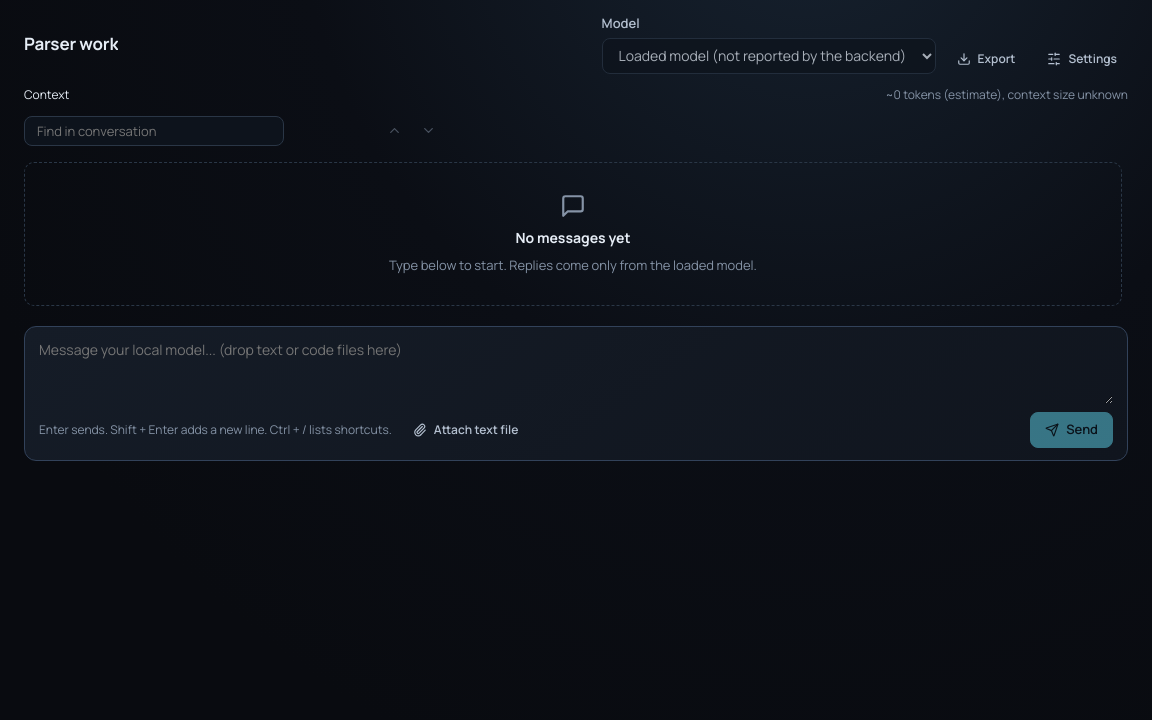
Test case: ChatPanel export › writes the conversation to the chosen path and reports the size
Click the button "Export" at (986, 58), box [946,44,1026,74]
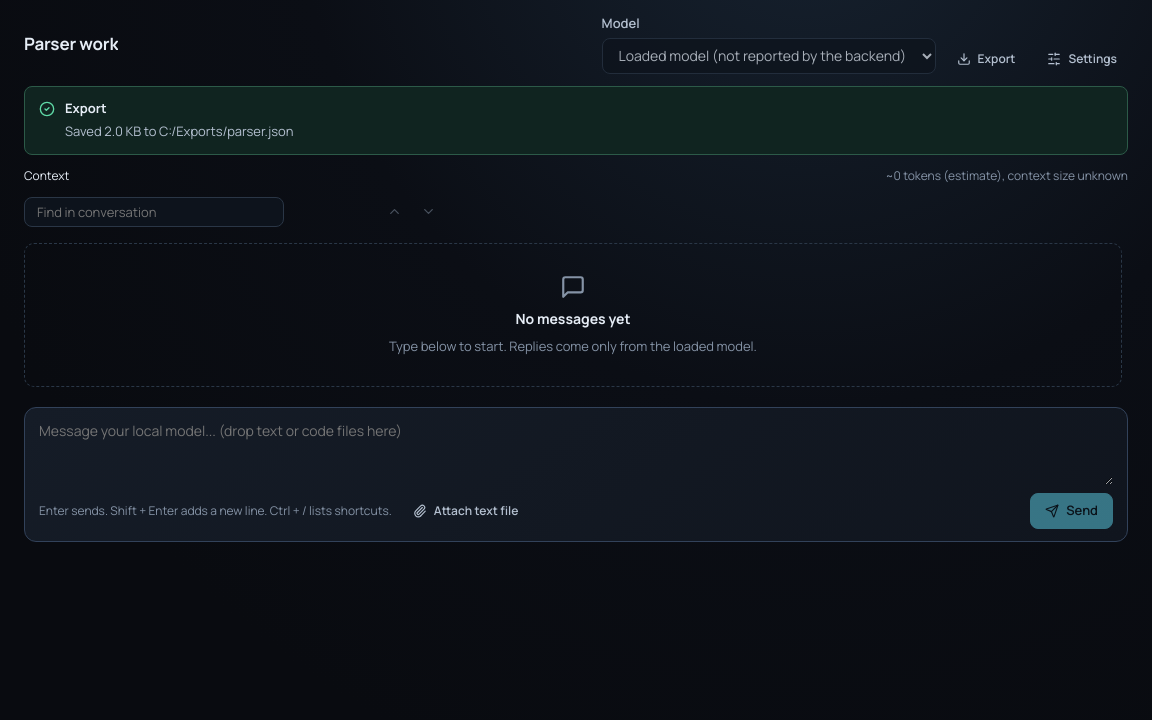
Expected: the text "Saved 2.0 KB to C:/Exports/parser.json" is shown, [65,122,293,140]
